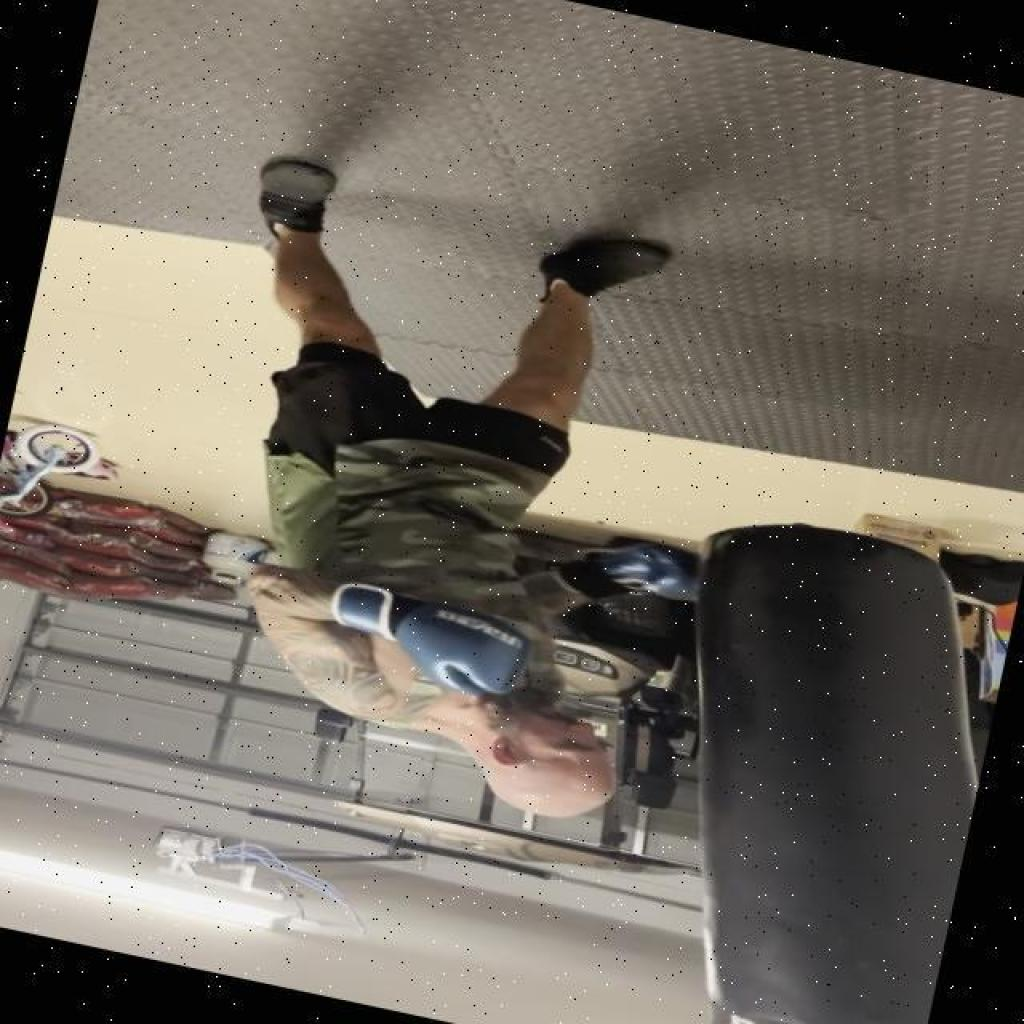uppercut: (237, 438, 789, 856)
